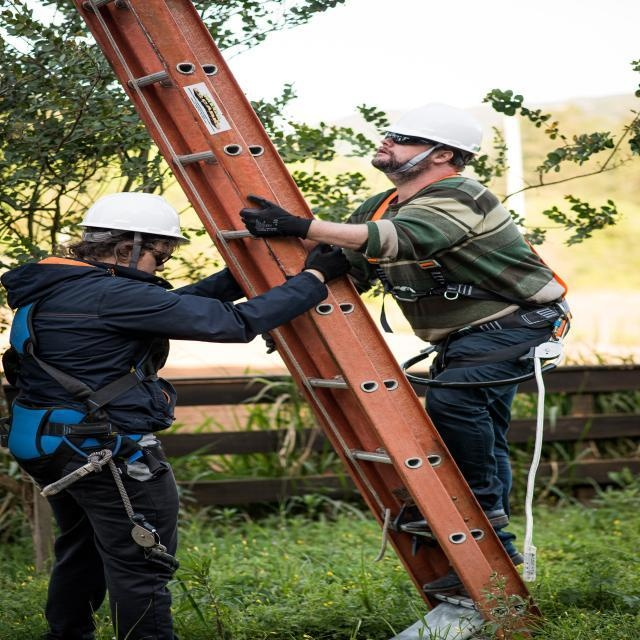Arnes_seguridad: (347, 172, 579, 374)
